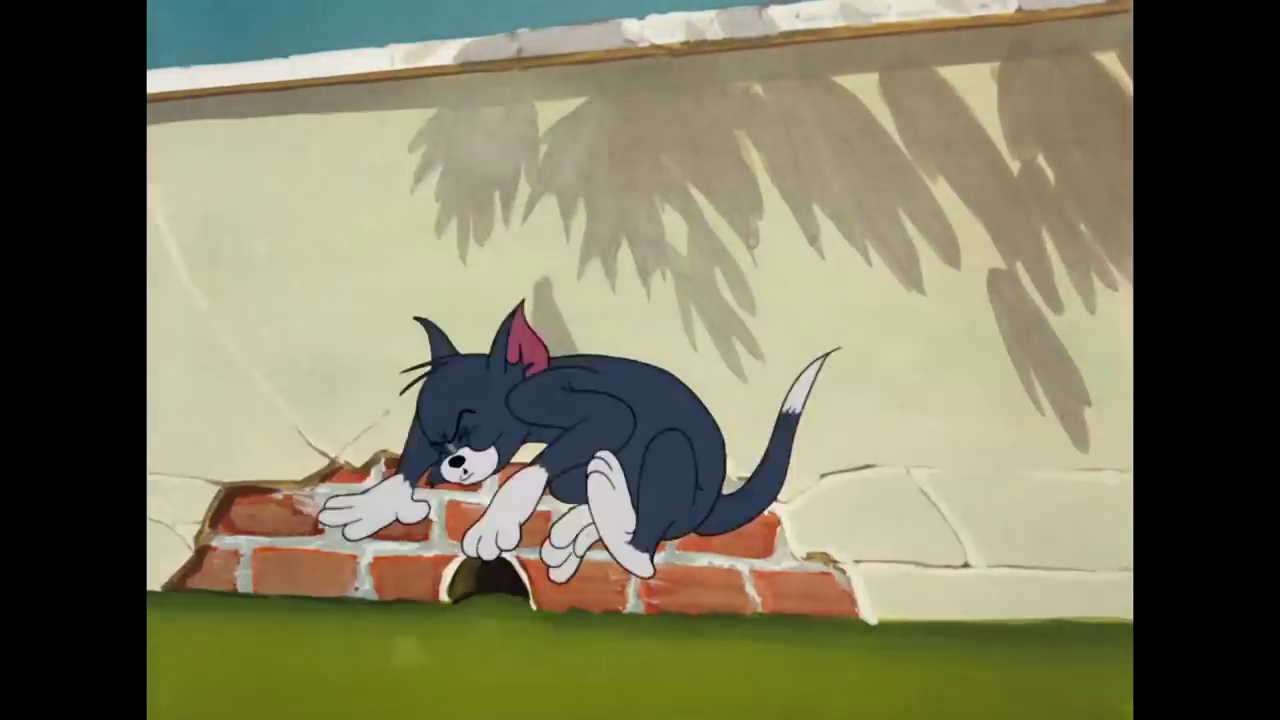tom: (396, 297, 553, 490)
